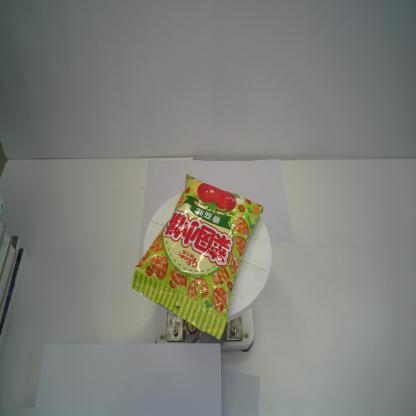Puffed Food: (130, 172, 265, 340)
